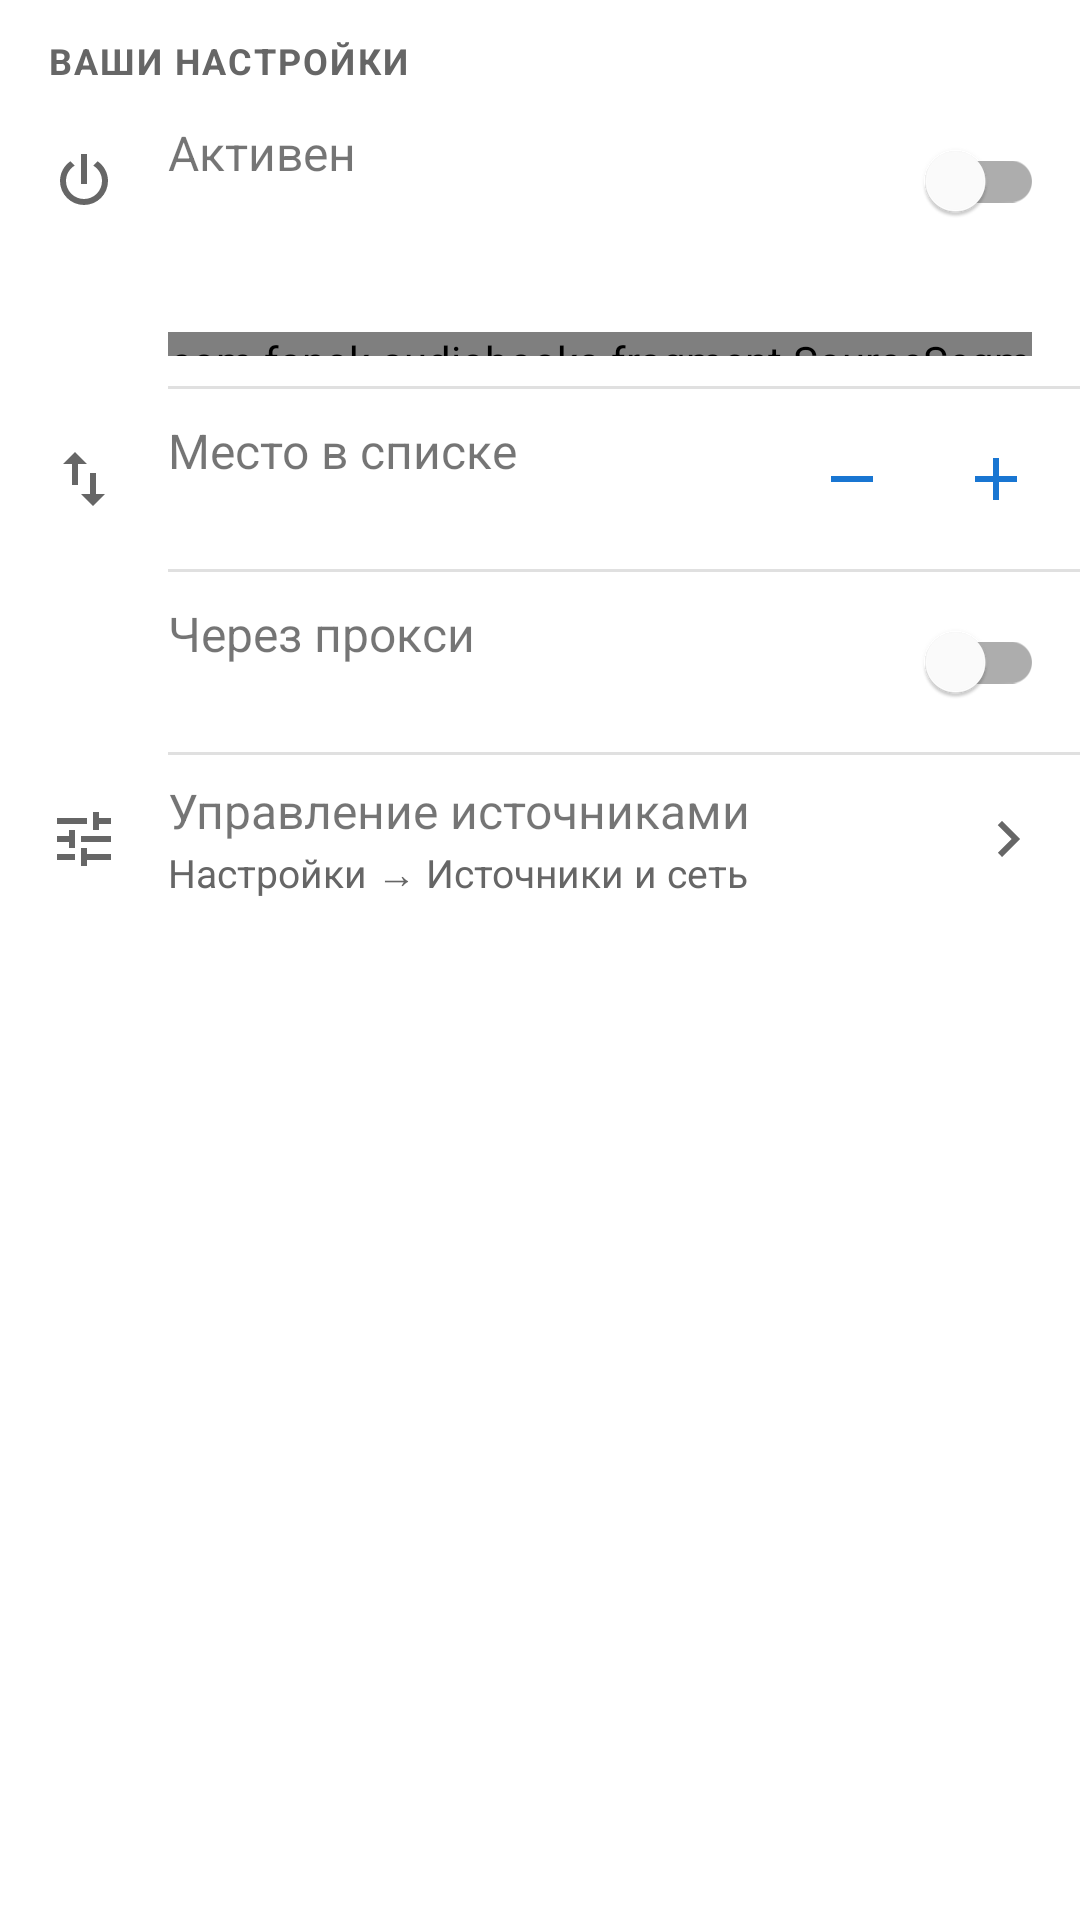

Icon click points for this 1080px x 1920px phone screenshot, format (x,y):
source chevron: (1009,839)
source plus: (996,479)
source power: (84,179)
source swap: (84,479)
source tune: (84,839)
